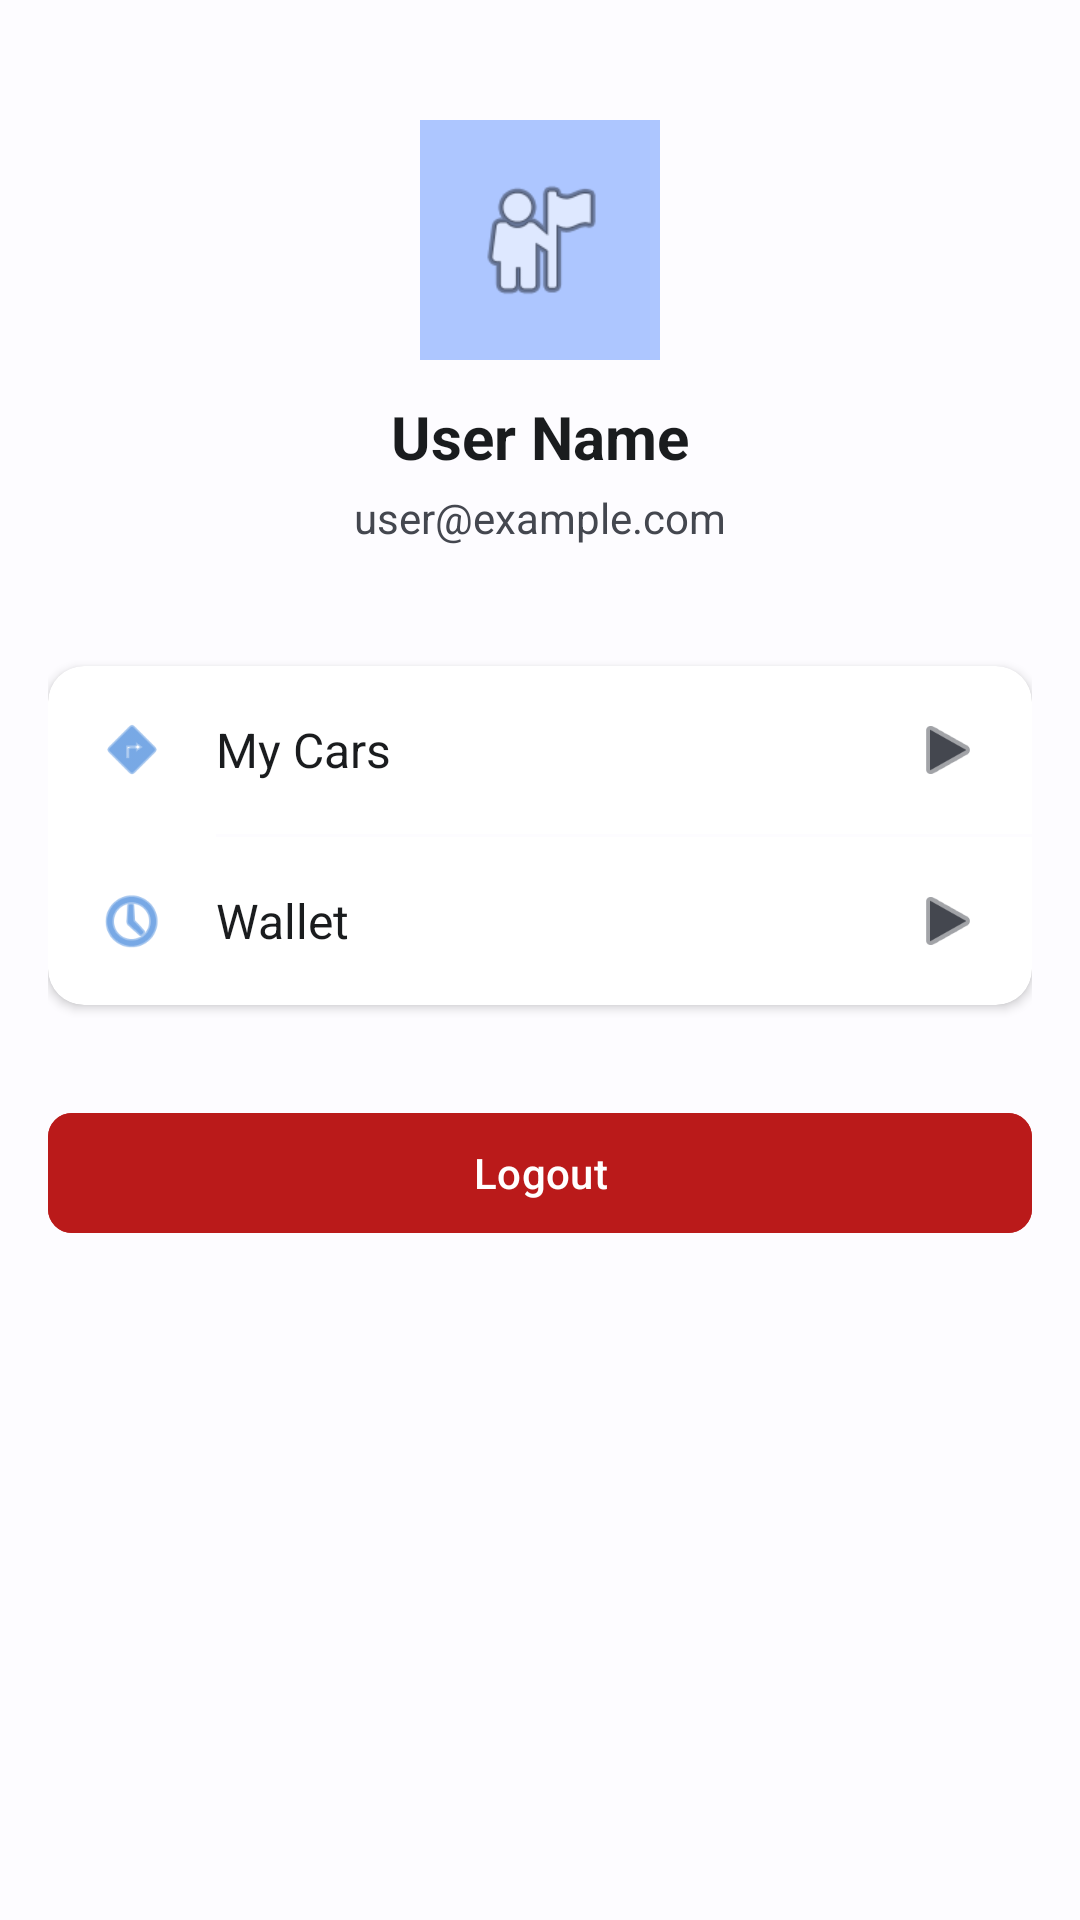

Icon click points for this 1080*1920 phone screenshot, format (x,y):
directions: (132,749)
myplaces: (540,240)
play: (948,750), (948,921)
recent history: (132,921)
